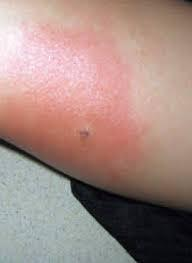Spider: (19, 26, 129, 180)
